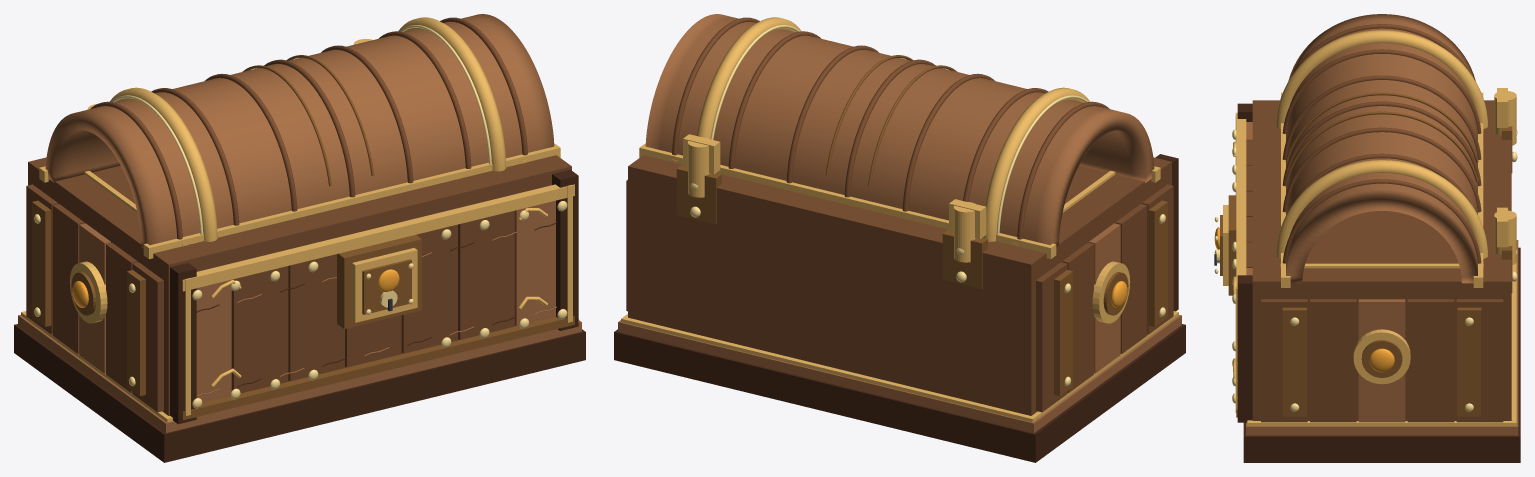
The model's file is chest_standard.glb.
The picture shows the model from 3 angles, left to right: view 1: azimuth 30°, elevation 25°; view 2: azimuth 150°, elevation 25°; view 3: azimuth 270°, elevation 25°; orthographic projection. The views are drawn at different scales.
Visible parts, largest first — view 1: LID | curved solid walnut shell, Chest | solid structural core, Base | lower shadow plinth, Front | individual oak board 05, Front | individual oak board 01, Front | upper gold armor rail, Front | individual oak board 02, Base | carved walnut molding, Front | individual oak board 04, Front | lower gold armor rail, Front | individual oak board 06, Front | individual oak board 00 (+30 smaller); view 2: Chest | solid structural core, LID | curved solid walnut shell, Base | lower shadow plinth, Base | carved walnut molding, Side | carved board -1 1, Base | gold hairline trim, Lid | heavy gold lower lip.001, Side | carved board -1 3, Side | carved board -1 4, Lid | forged gold cross band, Side | corner iron reinforcement, Side | carved board -1 2 (+20 smaller); view 3: LID | curved solid walnut shell, Chest | solid structural core, Base | lower shadow plinth, Side | carved board 1 3, Side | carved board 1 1, Lid | forged gold cross band, Lid | forged gold cross band.001, Side | carved board 1 2, Side | carved board 1 4, Base | carved walnut molding, Side | carved board 1 0, Side | corner iron reinforcement.002 (+26 smaller).
Part boxes in pixels (<box>): LID | curved solid walnut shell: <box>45,14,554,248</box>; Chest | solid structural core: <box>28,155,571,415</box>; Base | lower shadow plinth: <box>14,324,585,462</box>; Front | individual oak board 05: <box>458,210,514,339</box>; Front | individual oak board 01: <box>231,266,288,393</box>; Front | upper gold armor rail: <box>182,184,574,291</box>; Front | individual oak board 02: <box>288,254,344,381</box>; Base | carved walnut molding: <box>18,315,581,432</box>; Front | individual oak board 04: <box>401,224,457,353</box>; Front | lower gold armor rail: <box>182,316,574,420</box>; Front | individual oak board 06: <box>514,200,555,325</box>; Front | individual oak board 00: <box>196,280,231,402</box>; Chest | solid structural core: <box>628,155,1171,415</box>; LID | curved solid walnut shell: <box>645,14,1154,248</box>; Base | lower shadow plinth: <box>614,324,1185,462</box>; Base | carved walnut molding: <box>618,315,1181,432</box>; Side | carved board -1 1: <box>1115,204,1147,353</box>; Base | gold hairline trim: <box>621,311,1178,422</box>; Lid | heavy gold lower lip.001: <box>639,144,1056,259</box>; Side | carved board -1 3: <box>1062,243,1093,392</box>; Side | carved board -1 4: <box>1036,262,1067,412</box>; Lid | forged gold cross band: <box>982,87,1090,241</box>; Side | corner iron reinforcement: <box>1148,200,1167,326</box>; Side | carved board -1 2: <box>1089,223,1120,373</box>; LID | curved solid walnut shell: <box>1286,14,1477,283</box>; Chest | solid structural core: <box>1252,100,1511,420</box>; Base | lower shadow plinth: <box>1243,247,1520,462</box>; Side | carved board 1 3: <box>1407,299,1454,422</box>; Side | carved board 1 1: <box>1310,299,1356,422</box>; Lid | forged gold cross band: <box>1276,30,1487,128</box>; Lid | forged gold cross band.001: <box>1276,160,1487,258</box>; Side | carved board 1 2: <box>1358,299,1405,422</box>; Side | carved board 1 4: <box>1456,299,1503,422</box>; Base | carved walnut molding: <box>1246,240,1518,435</box>; Side | carved board 1 0: <box>1261,299,1307,422</box>; Side | corner iron reinforcement.002: <box>1282,307,1306,416</box>.
Size of the model in its own units: 3.17 by 1.99 by 2.03.
